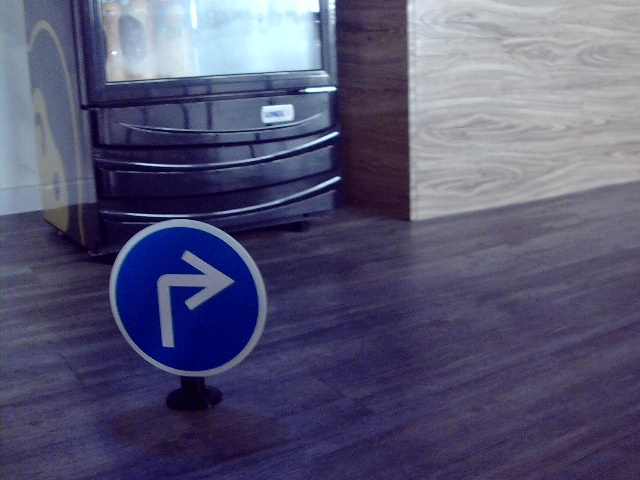turn_right: (147, 246, 231, 354)
